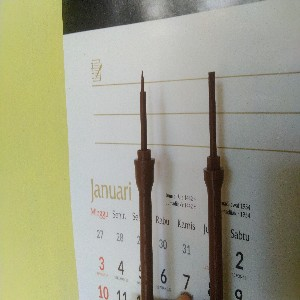obeng: (202, 71, 225, 300)
solder: (133, 69, 156, 300)
